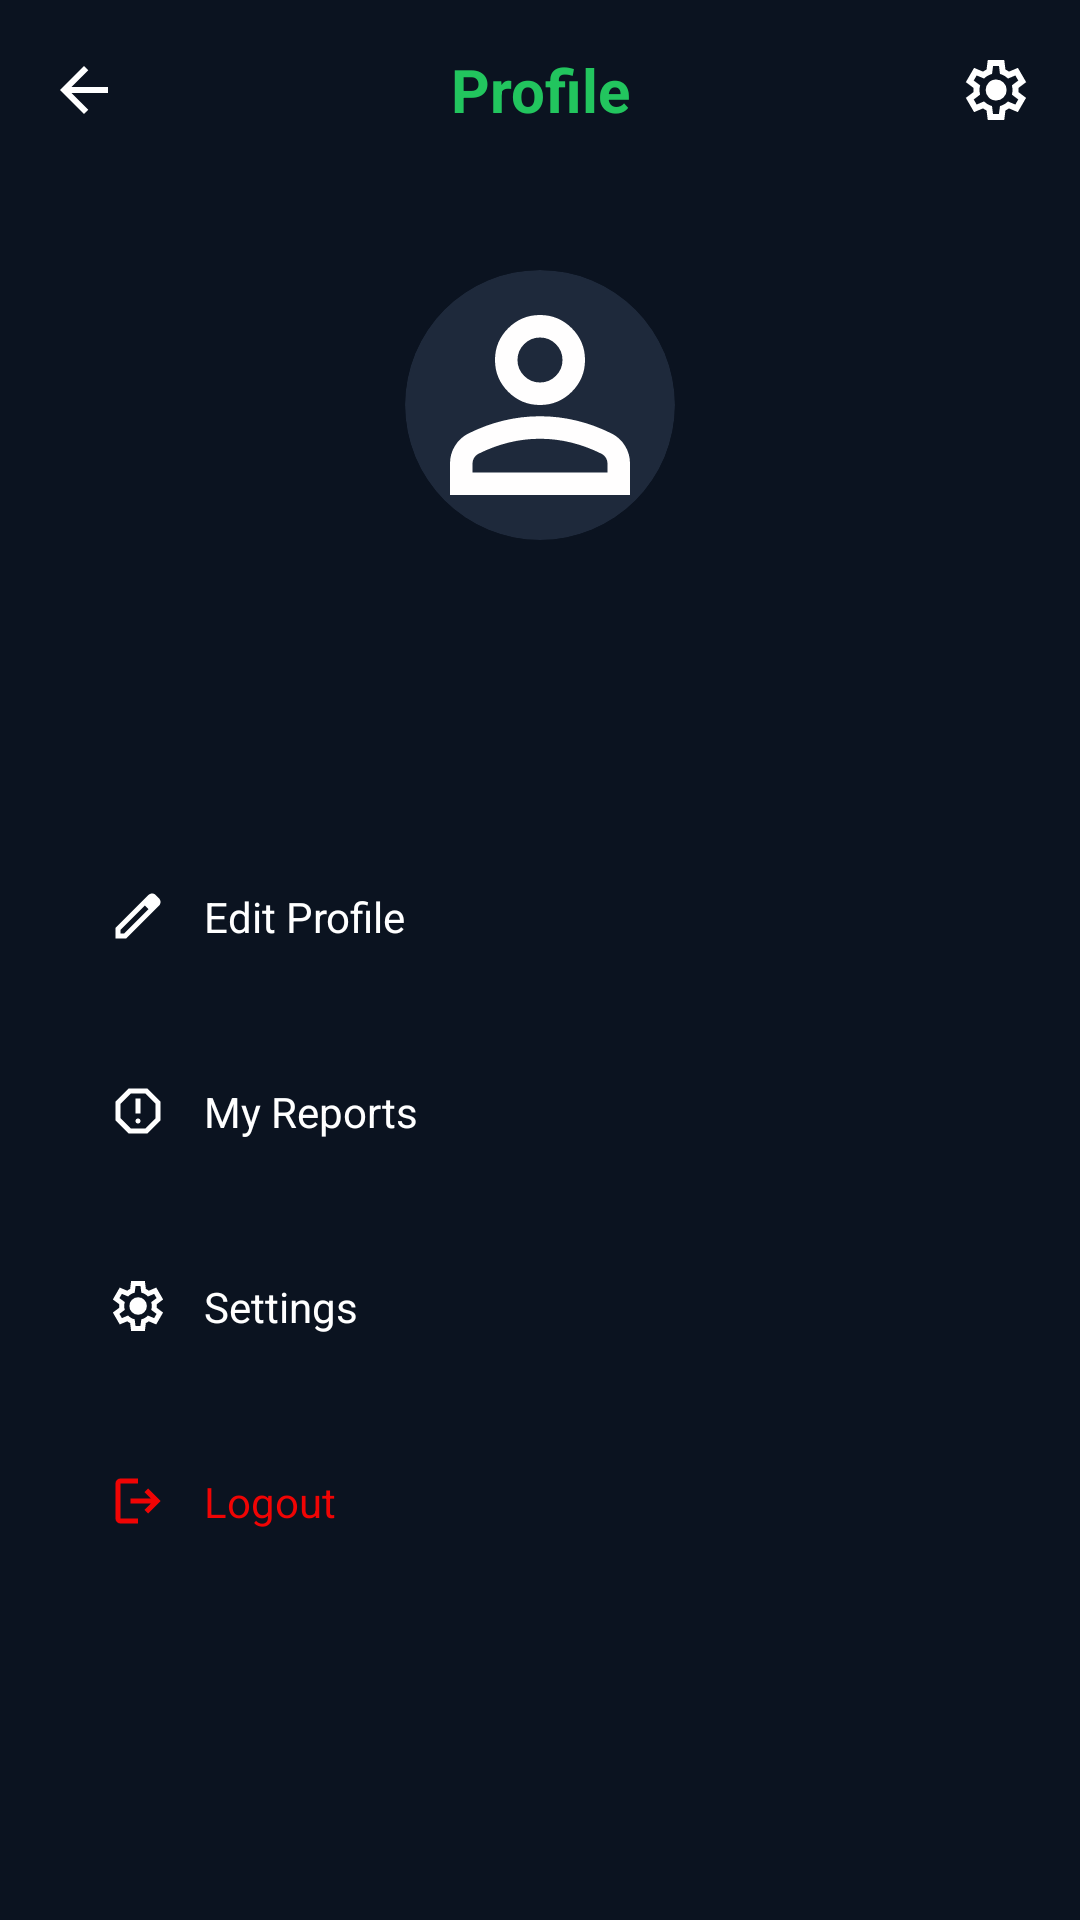

Locate icon controls on the screen. Image size 1080w x 1920h, boxes as (x1,y1,x2,y2).
back: (60,66,108,114)
